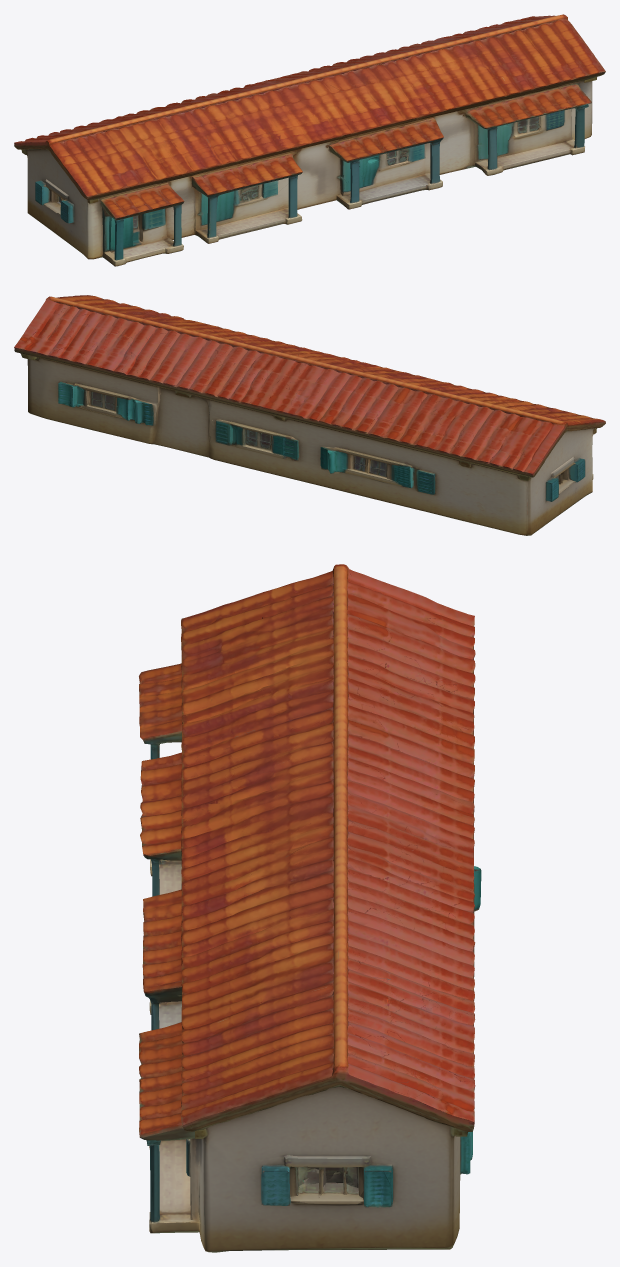
File: r3_kibbutz_row_a.glb
3 renders of one model, top to bottom at view 1: azimuth 30°, elevation 25°; view 2: azimuth 150°, elevation 25°; view 3: azimuth 270°, elevation 25°, orthographic. The views are drawn at different scales.
Visible parts, largest first — view 1: geometry_0; view 2: geometry_0; view 3: geometry_0.
Boxes of the visible parts, box(x1,y1,x2,y2) form: geometry_0: box(14, 14, 605, 266); geometry_0: box(14, 295, 605, 535); geometry_0: box(139, 564, 481, 1252).
Size of the model in its own units: 28 by 5 by 8.
Materials: 1 (1 with a texture image).
